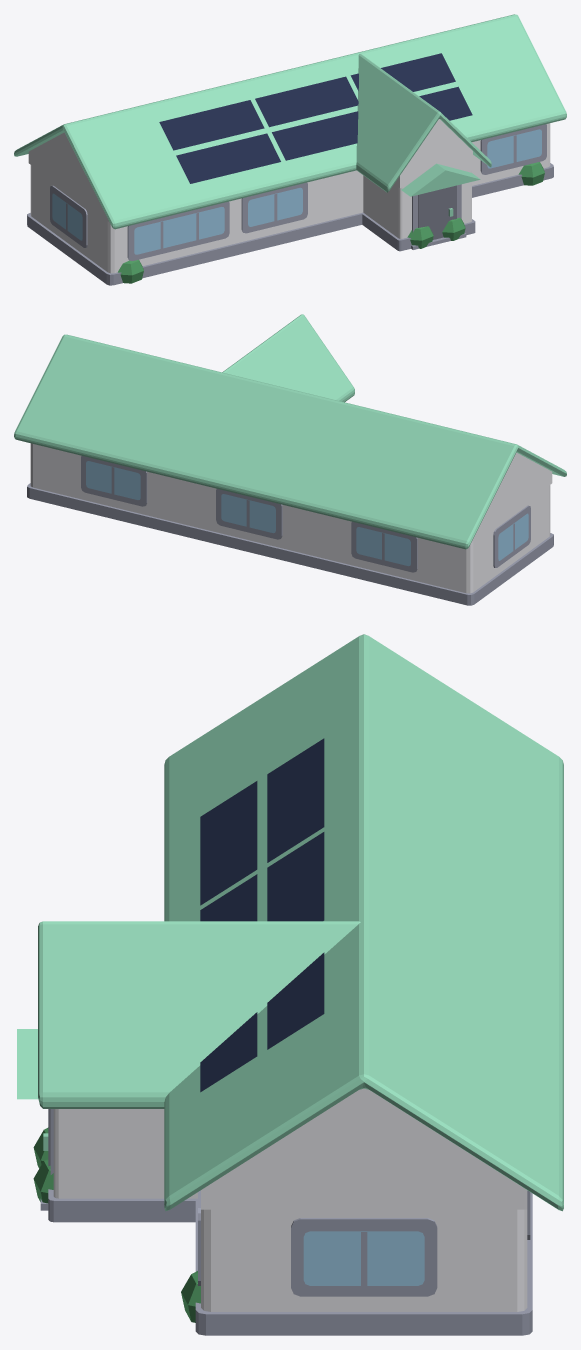
File: house-2x1-1f-tone-a-solar.glb
3 views of the same model, one above another, from view 1: azimuth 30°, elevation 25°; view 2: azimuth 150°, elevation 25°; view 3: azimuth 270°, elevation 25° (orthographic). The views are drawn at different scales.
Visible parts, largest first — view 1: house-2x1-1f-tone-a-solar; view 2: house-2x1-1f-tone-a-solar; view 3: house-2x1-1f-tone-a-solar.
Part boxes in pixels (left/top/right/bottom): house-2x1-1f-tone-a-solar: left=14, top=14, right=566, bottom=285; house-2x1-1f-tone-a-solar: left=14, top=314, right=566, bottom=605; house-2x1-1f-tone-a-solar: left=17, top=634, right=563, bottom=1335.
Bounding box in the file's own units: 2 × 0.5522 × 1.04.
Materials: 1 (1 with a texture image).
